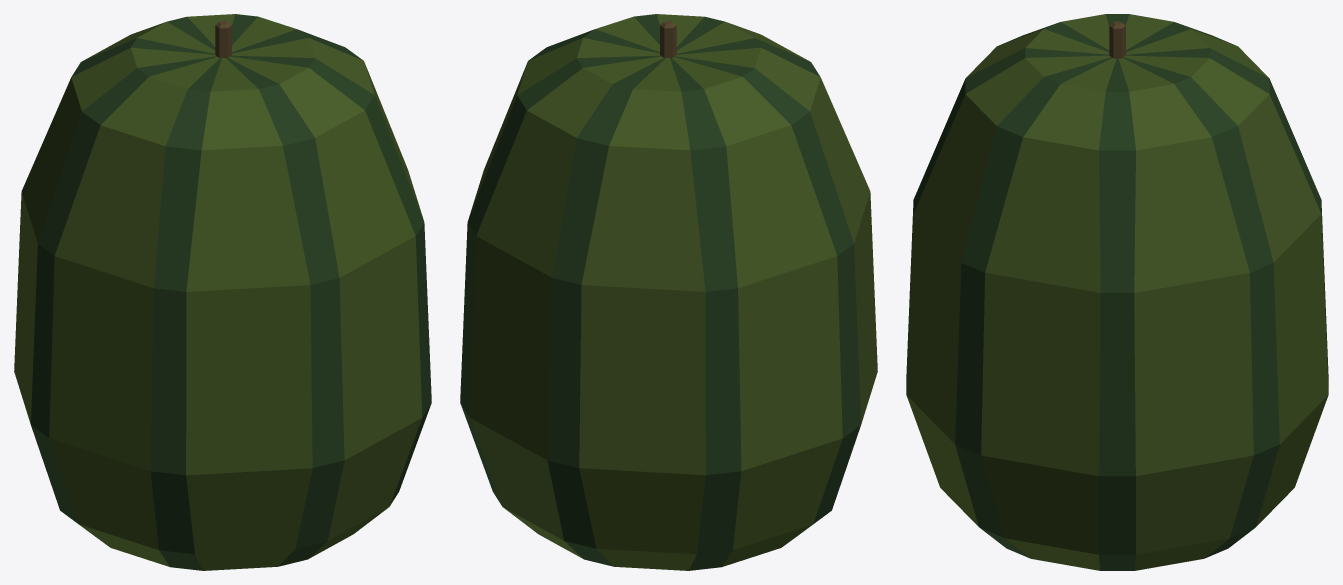
The model's file is Watermalon_1.fbx.
The picture shows the model from 3 angles, left to right: view 1: azimuth 30°, elevation 25°; view 2: azimuth 150°, elevation 25°; view 3: azimuth 270°, elevation 25°; orthographic projection.
Visible parts, largest first — view 1: Watermalon_1; view 2: Watermalon_1; view 3: Watermalon_1.
Part boxes in pixels (x1,y1,x2,y2): Watermalon_1: (14,14,431,570); Watermalon_1: (460,14,877,570); Watermalon_1: (906,14,1328,570).
Bounding box in the file's own units: 41.18 × 53.91 × 41.18.
